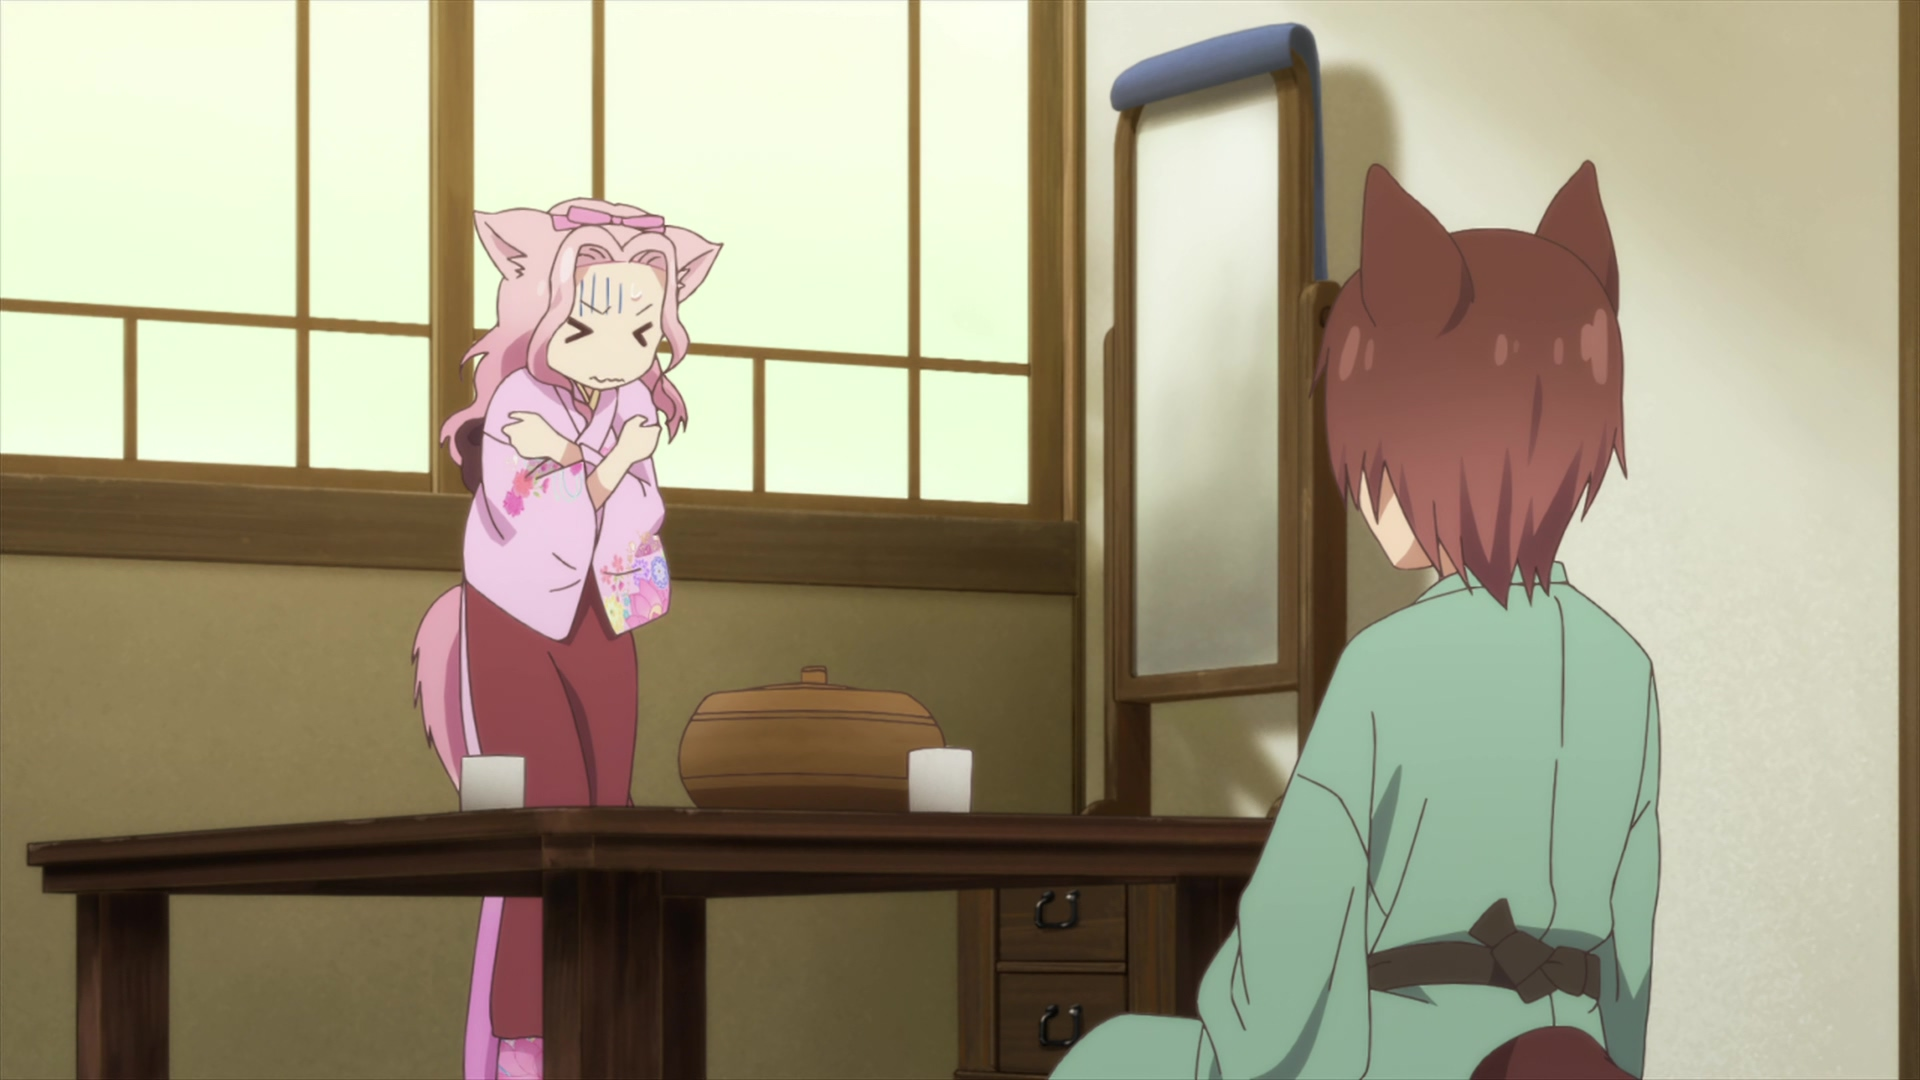枣: (1052, 156, 1662, 1080)
莲: (414, 195, 721, 1080)
